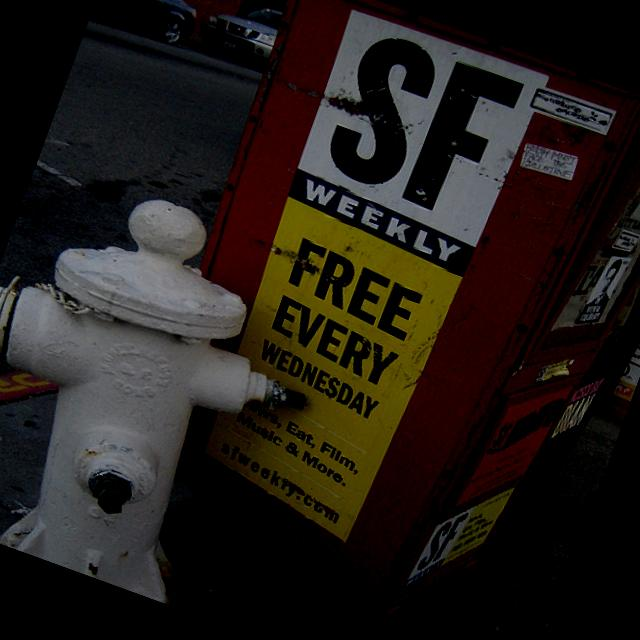Vehicle: (88, 0, 207, 56), (196, 0, 286, 71)
